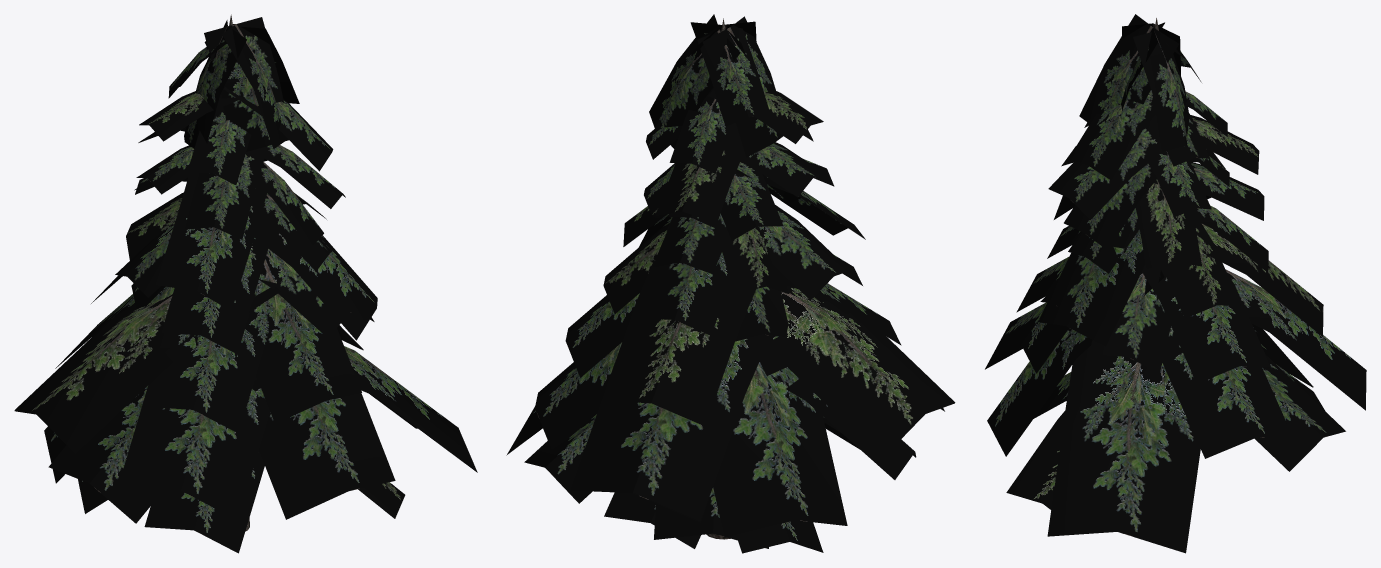
Rendered from Pinetree.fbx.
The picture shows the model from 3 angles, left to right: view 1: azimuth 30°, elevation 25°; view 2: azimuth 150°, elevation 25°; view 3: azimuth 270°, elevation 25°; orthographic projection. The views are drawn at different scales.
Visible parts, largest first — view 1: Plane_027; view 2: Plane_027; view 3: Plane_027.
Part boxes in pixels (left/top/right/bottom): Plane_027: left=14, top=14, right=477, bottom=553; Plane_027: left=506, top=14, right=955, bottom=553; Plane_027: left=985, top=14, right=1366, bottom=553.
Bounding box in the file's own units: 36.97 × 44.74 × 32.24.
